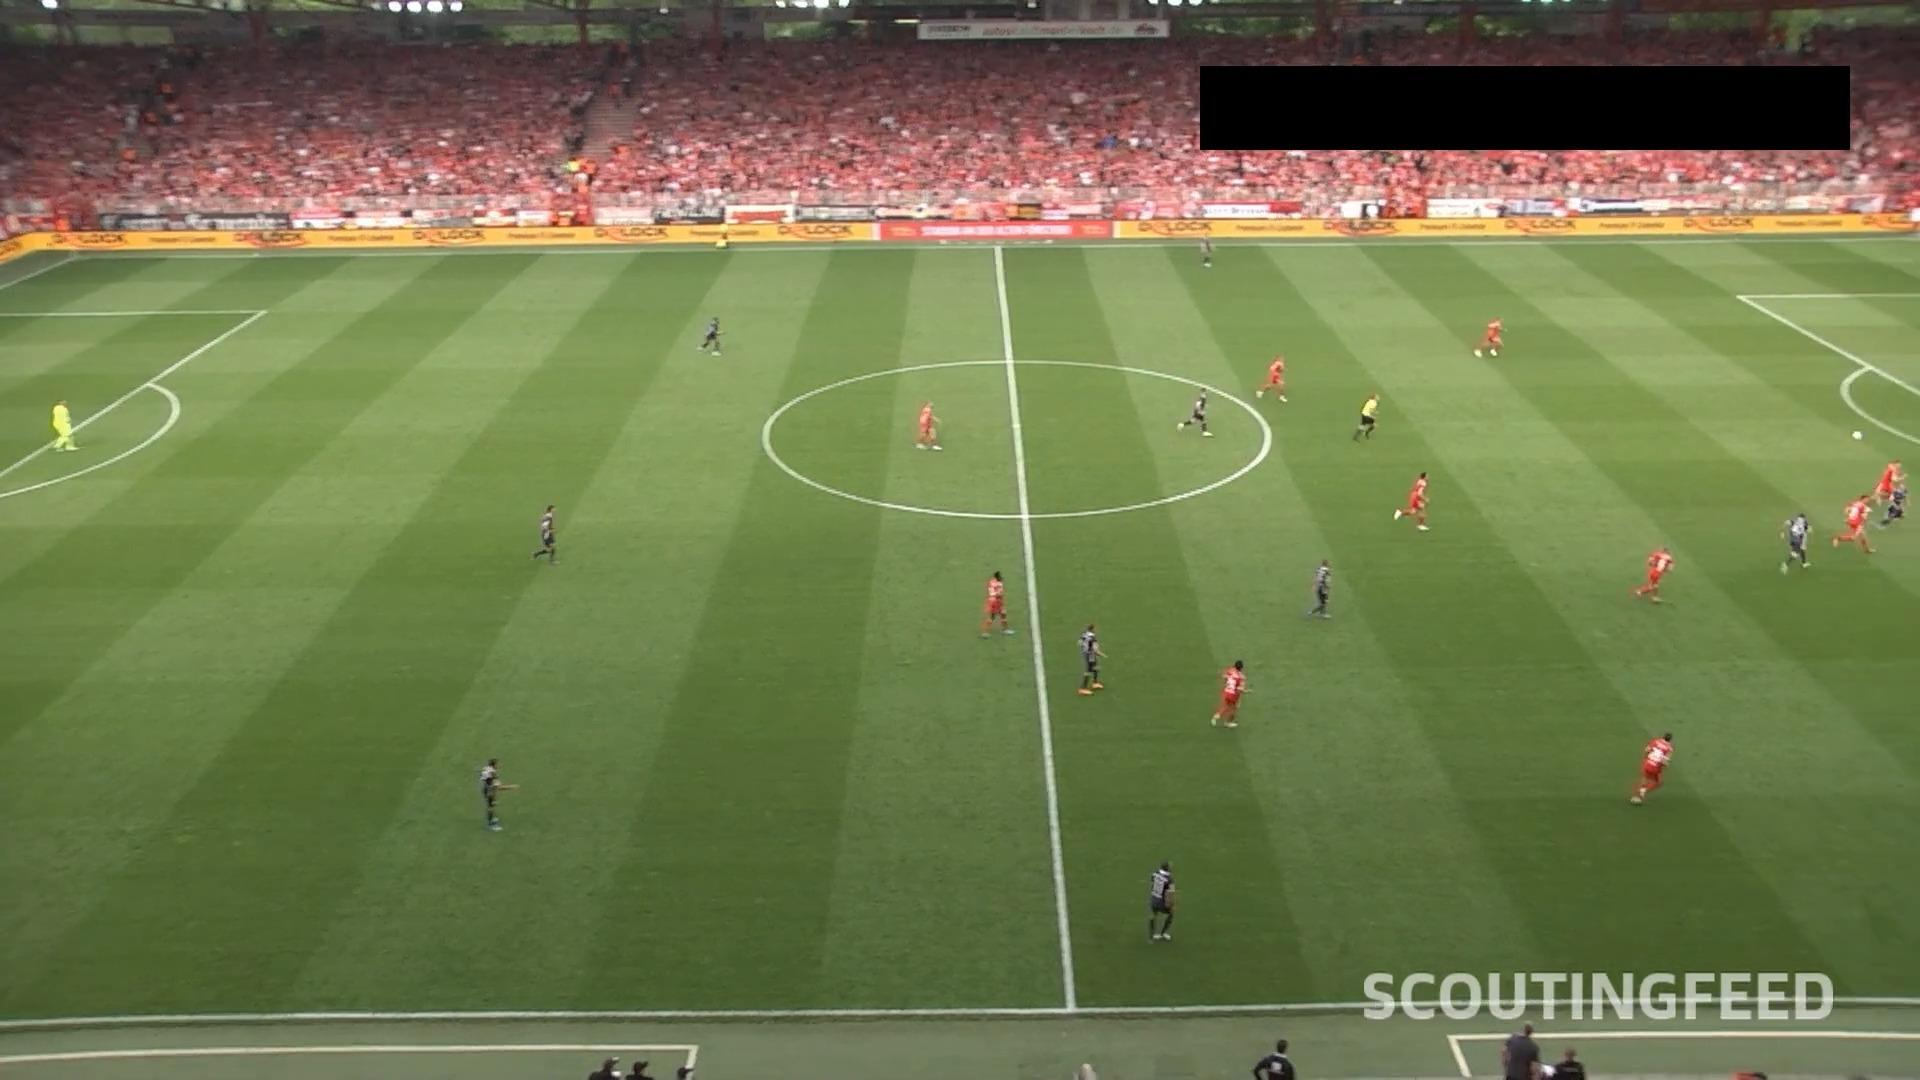ball: (1850, 430, 1863, 442)
